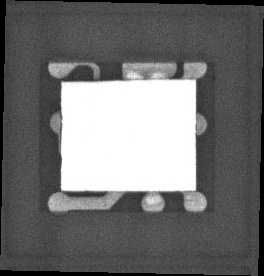DIE_BROKEN: (60, 79, 131, 84), (59, 105, 64, 174)
